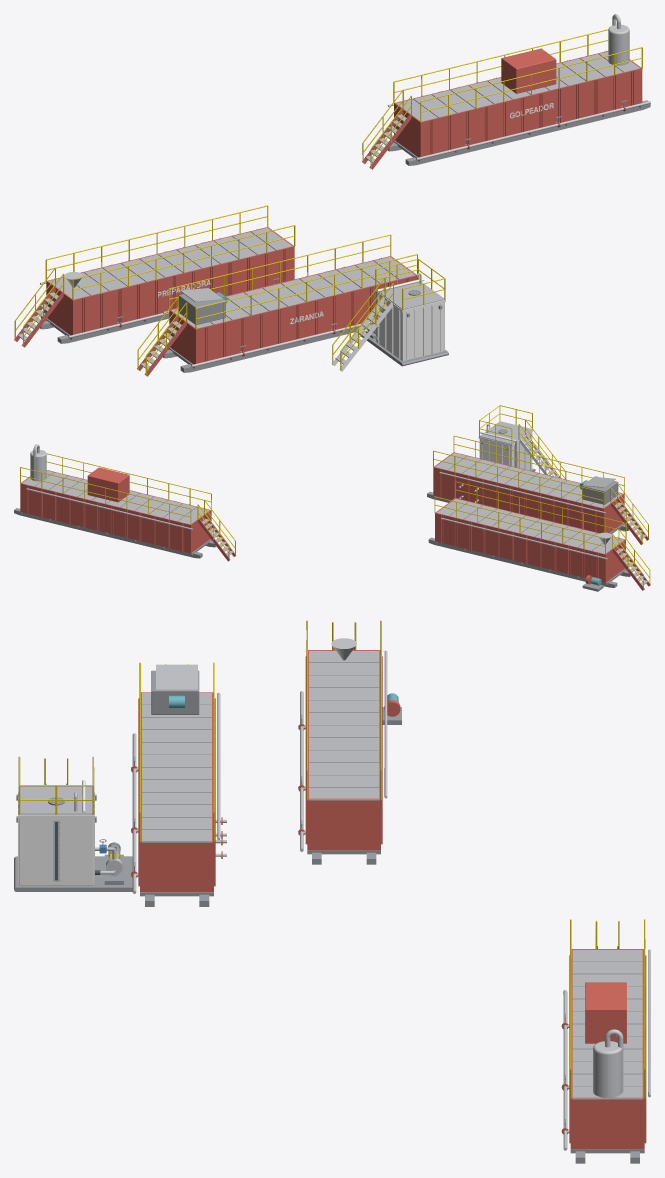
Rendered from sk575_piletas.glb.
3 renders of one model, top to bottom at view 1: azimuth 30°, elevation 25°; view 2: azimuth 150°, elevation 25°; view 3: azimuth 270°, elevation 25°, orthographic. The views are drawn at different scales.
Visible parts, largest first — view 1: sk575_piletas_rojo, sk575_piletas_grating, sk575_piletas_amarillo, sk575_piletas_acero_oscuro, sk575_piletas_blanco, sk575_piletas_acero; view 2: sk575_piletas_rojo, sk575_piletas_grating, sk575_piletas_amarillo, sk575_piletas_acero_oscuro, sk575_piletas_acero, sk575_piletas_blanco; view 3: sk575_piletas_grating, sk575_piletas_rojo, sk575_piletas_acero, sk575_piletas_blanco, sk575_piletas_acero_oscuro, sk575_piletas_amarillo.
Part boxes in pixels (x1,y1,x2,y2): sk575_piletas_rojo: [14, 48, 642, 376]; sk575_piletas_grating: [17, 51, 641, 370]; sk575_piletas_amarillo: [14, 29, 642, 375]; sk575_piletas_acero_oscuro: [40, 100, 650, 372]; sk575_piletas_blanco: [158, 103, 553, 371]; sk575_piletas_acero: [40, 14, 650, 367]; sk575_piletas_rojo: [20, 452, 650, 590]; sk575_piletas_grating: [21, 421, 648, 585]; sk575_piletas_amarillo: [20, 405, 650, 590]; sk575_piletas_acero_oscuro: [14, 429, 630, 591]; sk575_piletas_acero: [26, 424, 632, 566]; sk575_piletas_blanco: [478, 430, 558, 476]; sk575_piletas_grating: [20, 651, 643, 1099]; sk575_piletas_rojo: [131, 648, 646, 1149]; sk575_piletas_acero: [17, 638, 650, 1150]; sk575_piletas_blanco: [18, 780, 94, 885]; sk575_piletas_acero_oscuro: [14, 670, 644, 1163]; sk575_piletas_amarillo: [18, 620, 645, 1098].
Bounding box in the file's own units: 35.56 × 4.25 × 19.82.
